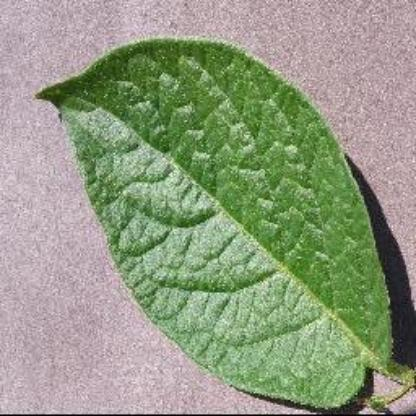Healthy-plant: (26, 40, 406, 404)
